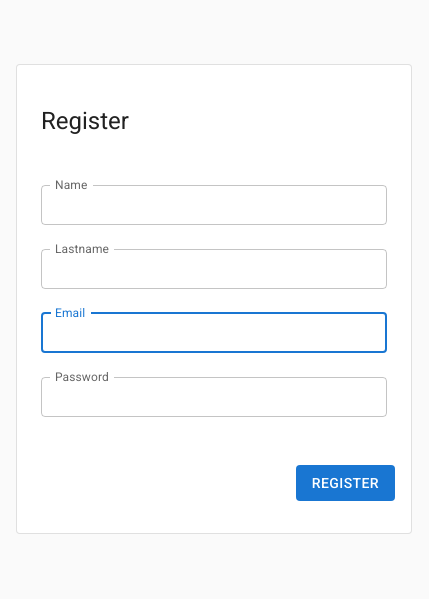
RegisterForm › should display validation error for invalid email
The width and height of the screenshot is (429, 599).
Type "invalid-email" into the field named "email" at (214, 333), box [41, 313, 387, 353]
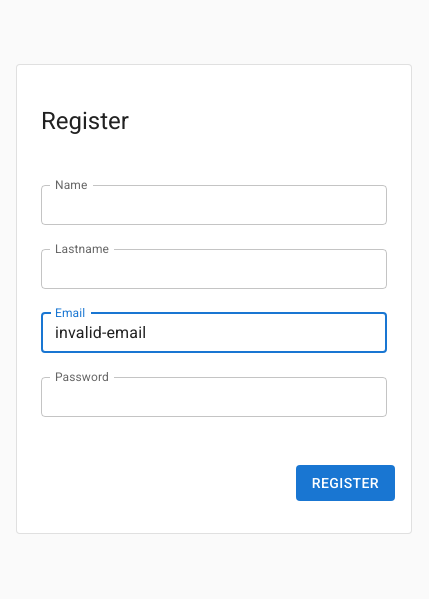
Click the submit button at (346, 484), box [296, 465, 395, 502]
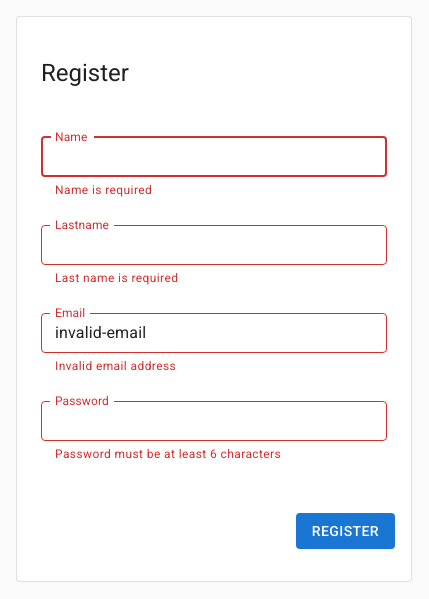
Check: the text "Invalid email address" is shown, box [55, 359, 176, 373]
